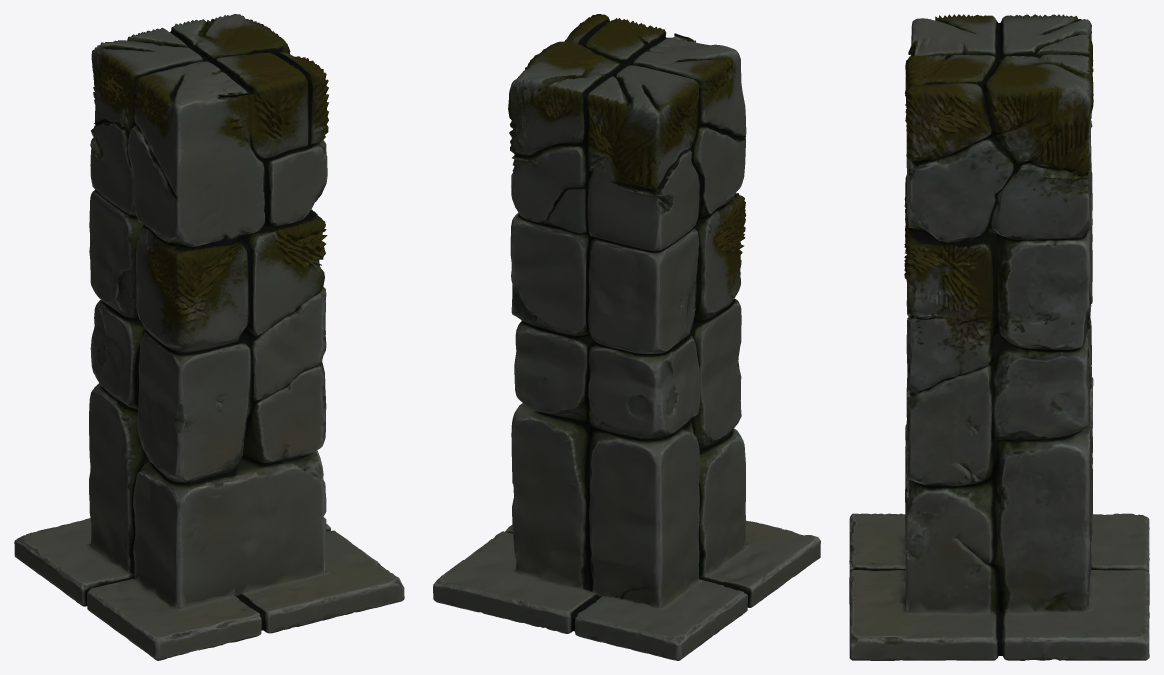
3 views of the same model, side by side, from view 1: azimuth 30°, elevation 25°; view 2: azimuth 150°, elevation 25°; view 3: azimuth 270°, elevation 25° (orthographic). The views are drawn at different scales.
Visible parts, largest first — view 1: tripo_node_6a43582b; view 2: tripo_node_6a43582b; view 3: tripo_node_6a43582b.
Part boxes in pixels (x1=…): tripo_node_6a43582b: x1=14, y1=14, x2=404, y2=660; tripo_node_6a43582b: x1=433, y1=14, x2=820, y2=660; tripo_node_6a43582b: x1=849, y1=14, x2=1149, y2=660.
Size of the model in its own units: 0.498 by 0.9999 by 0.4969.
1 material, 1 textured.
